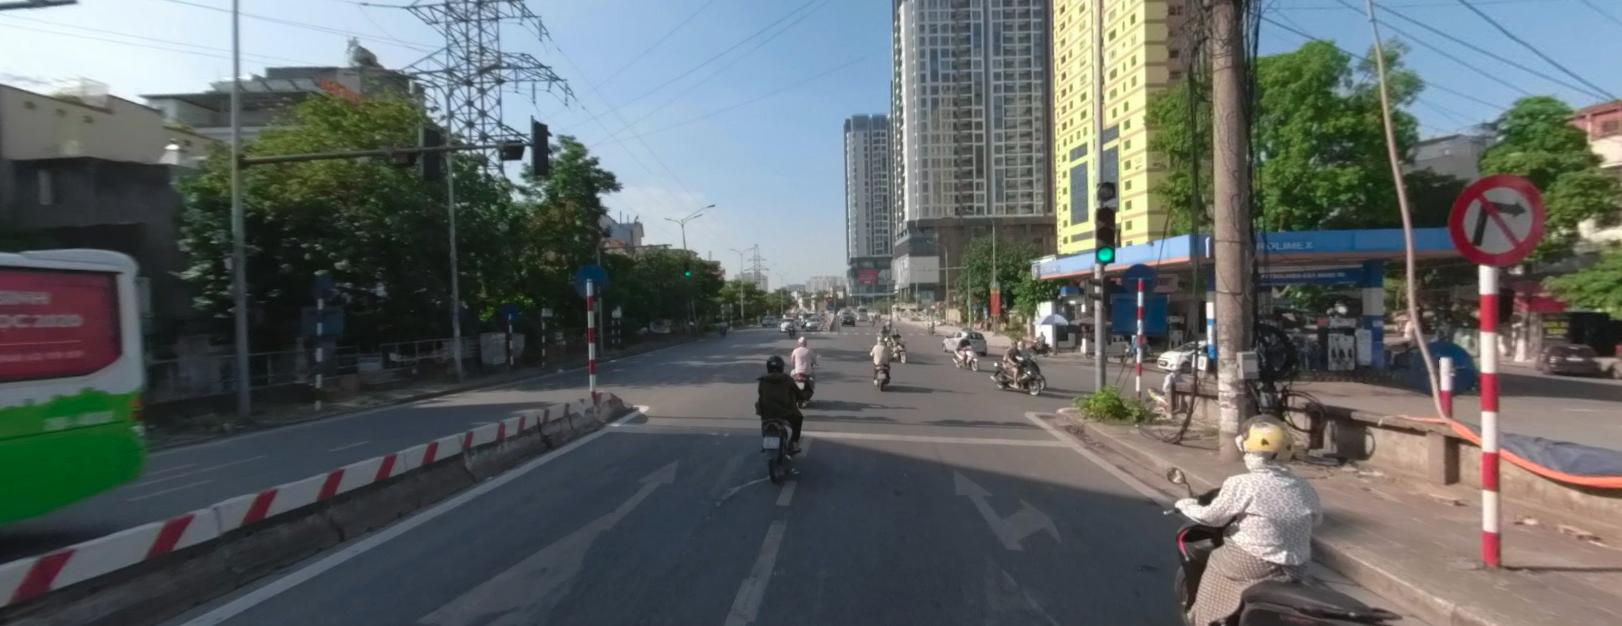Cam re: (1448, 172, 1542, 265)
